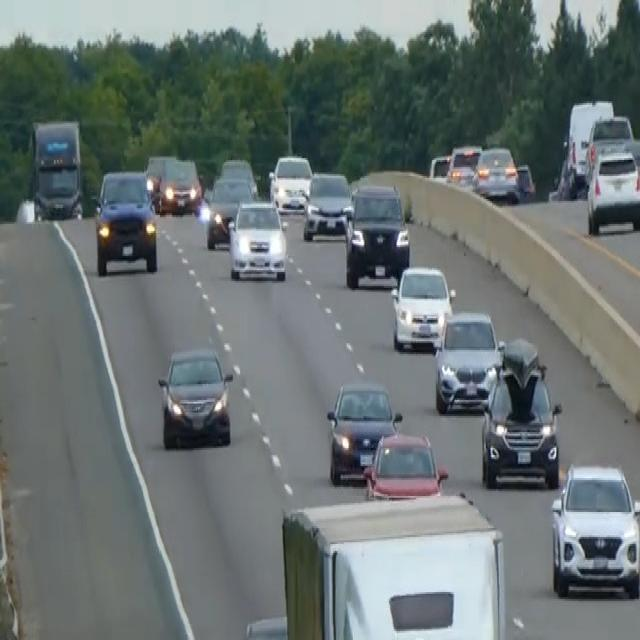car: (549, 459, 639, 599), (479, 338, 562, 489), (325, 378, 401, 484), (157, 345, 233, 450), (433, 308, 504, 412), (342, 181, 410, 288), (92, 167, 158, 276), (362, 428, 448, 499), (390, 263, 455, 352), (561, 96, 613, 194), (227, 197, 287, 281), (585, 142, 639, 235), (583, 112, 639, 185), (205, 174, 254, 249), (302, 169, 353, 240), (473, 144, 519, 203), (268, 153, 313, 211), (157, 157, 201, 215), (144, 151, 176, 208), (219, 155, 258, 199), (446, 142, 481, 190), (515, 160, 536, 201), (428, 151, 451, 181)
lorry: (27, 116, 86, 222)
